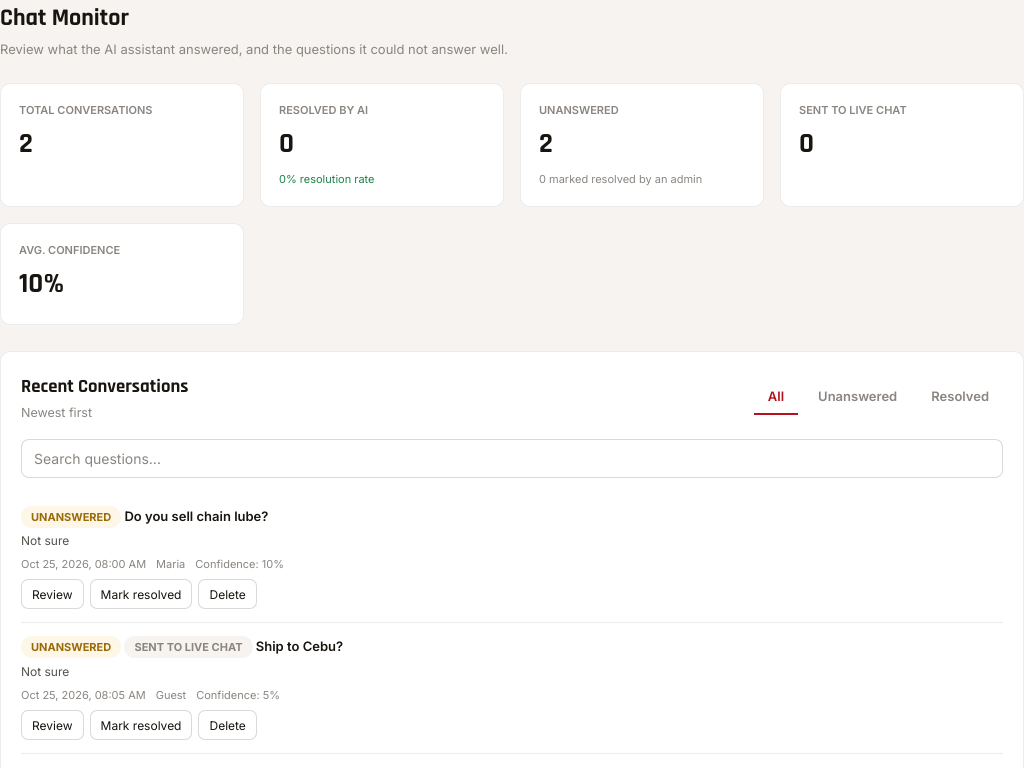
chat monitor › asks before deleting, and cancelling deletes nothing
Click the button "Delete" below "Oct 25, 2026, 08:00 AM" at [228, 594], box 198,579 -> 257,609
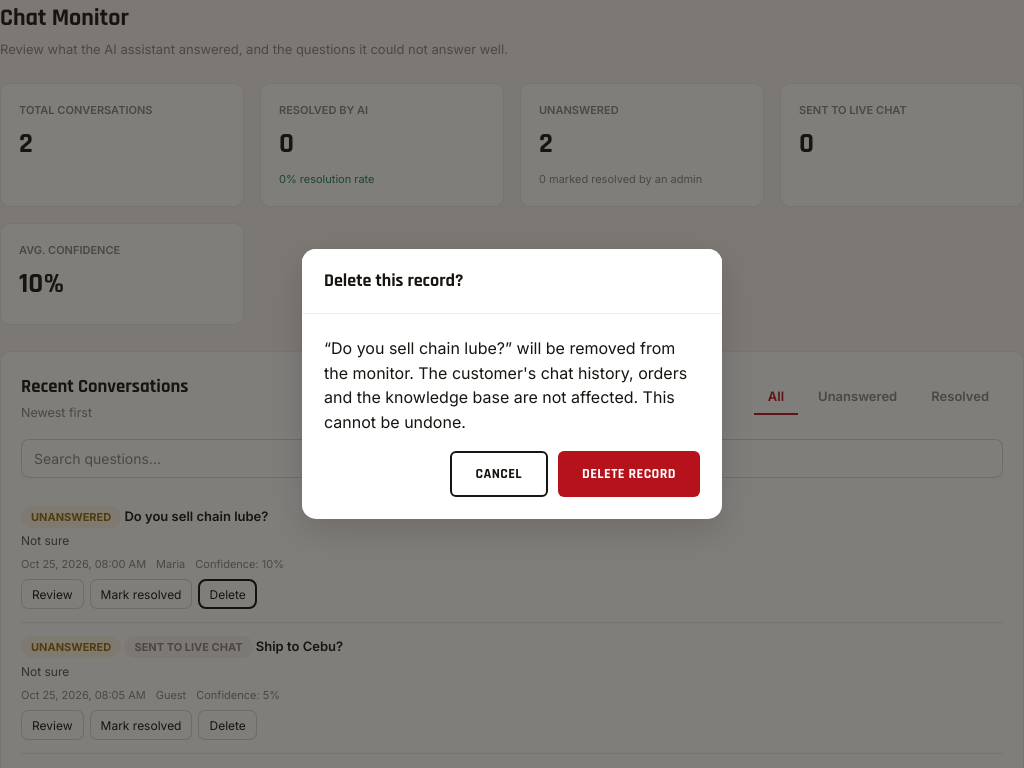
Expected: the text "chat history, orders and the knowledge base are not affected" is shown, 324,338 -> 687,432
Click the button "Cancel" at [499, 474], box 450,451 -> 548,497
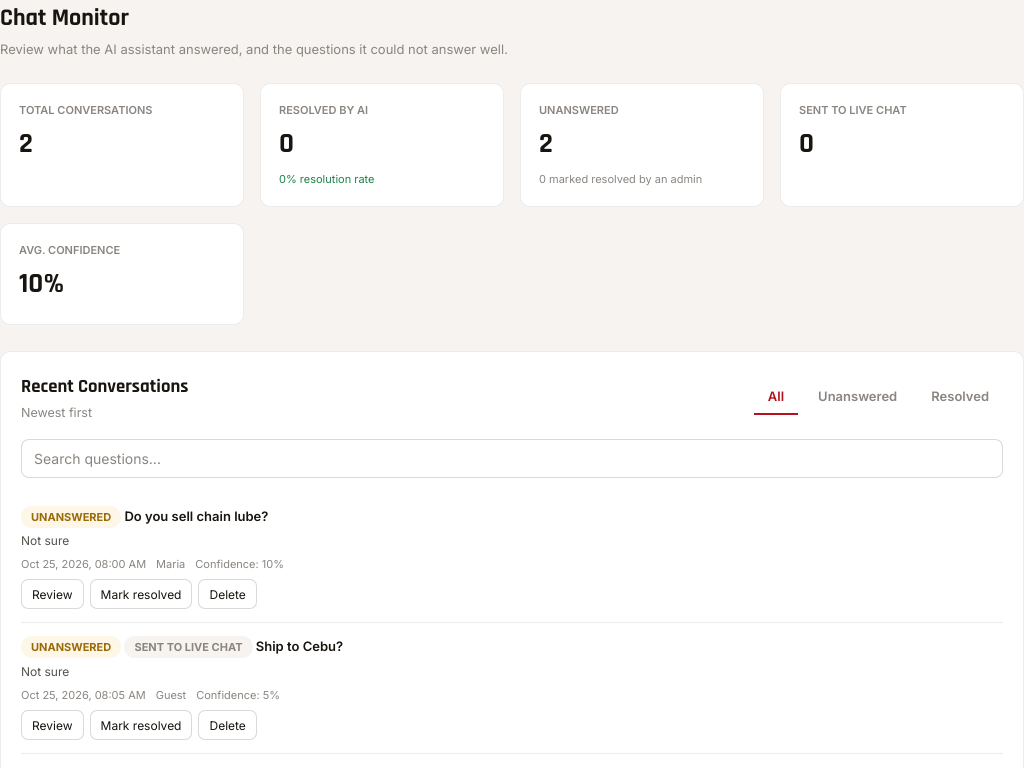
Expected: the dialog is gone
